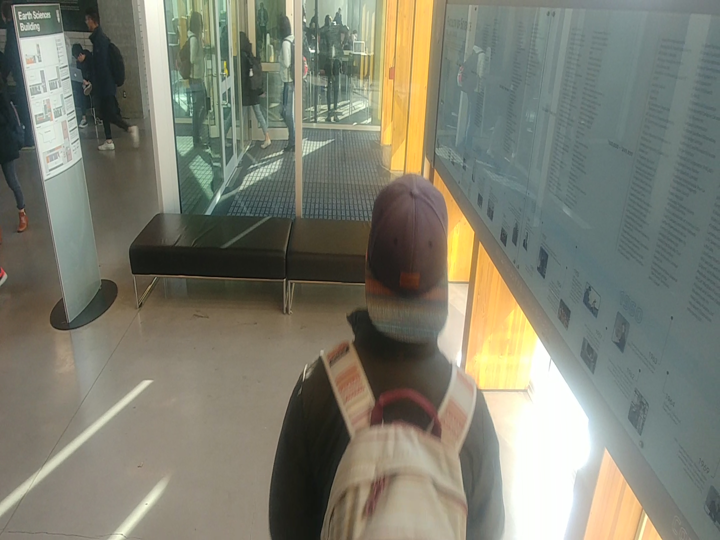face: (356, 167, 465, 355), (182, 5, 208, 43), (80, 3, 105, 41), (271, 10, 293, 40), (68, 40, 91, 67)
human: (265, 167, 517, 540), (77, 2, 143, 155), (170, 7, 212, 157), (235, 24, 274, 151), (272, 8, 297, 159)
